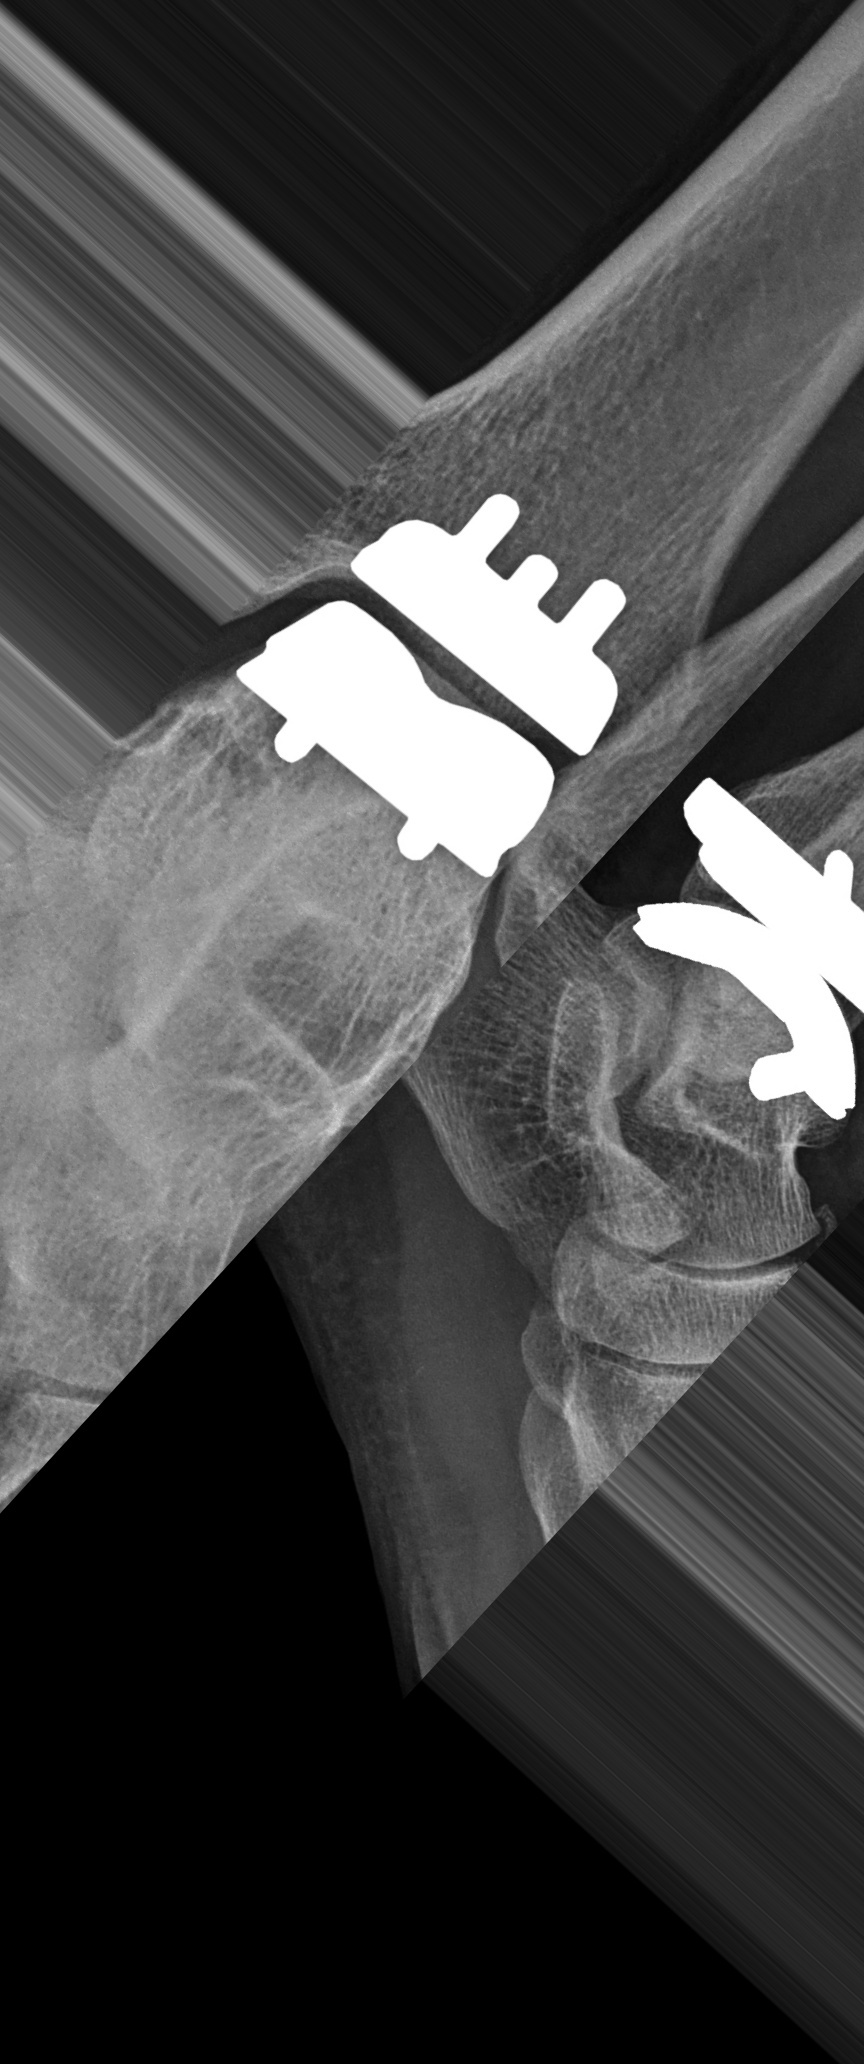Ankle - Infinity - Wright: (230, 484, 635, 885), (608, 763, 864, 1133)
